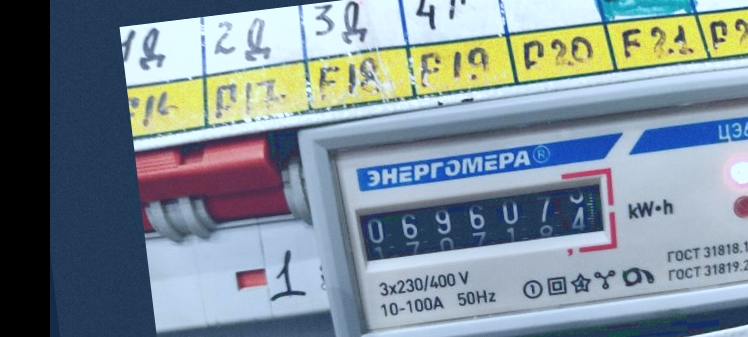0: (499, 194, 521, 226), (366, 214, 386, 244)
4: (568, 201, 588, 232)
6: (399, 209, 420, 239), (467, 199, 487, 230)
7: (533, 191, 556, 224)
9: (432, 205, 453, 235)
screen: (341, 162, 626, 279)
